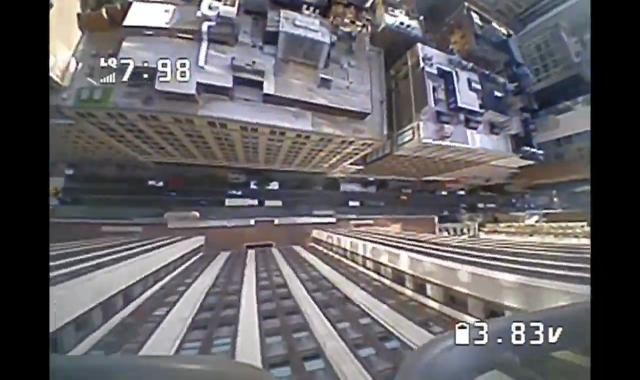truck: (223, 195, 262, 211)
